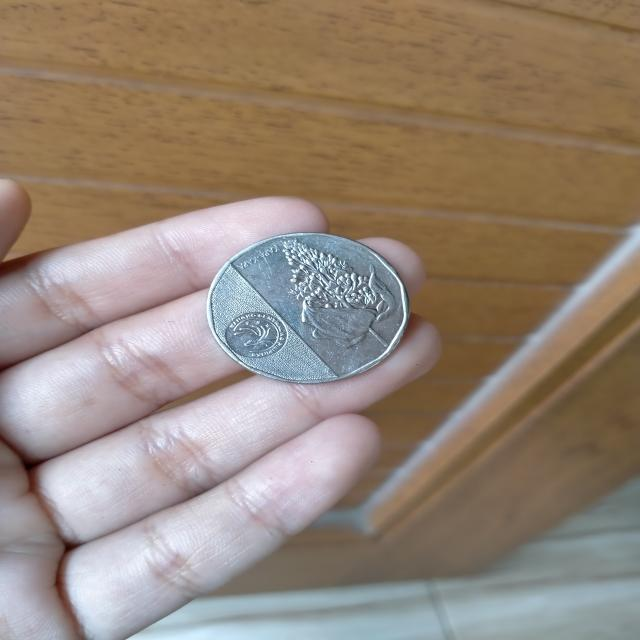10_New_Back: (272, 233, 406, 356)
